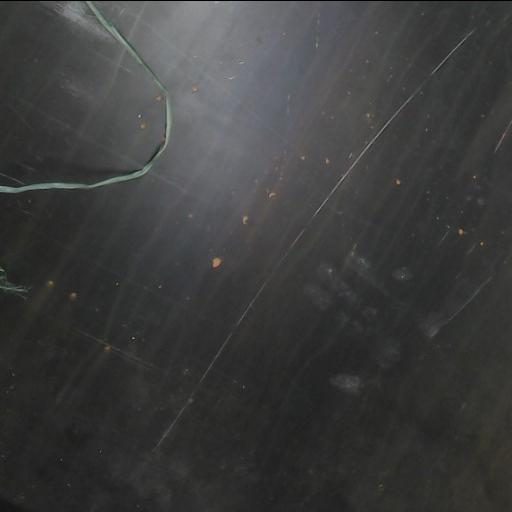conveyor belt: (0, 1, 511, 512), (0, 3, 163, 184)
thread: (0, 1, 172, 192)
